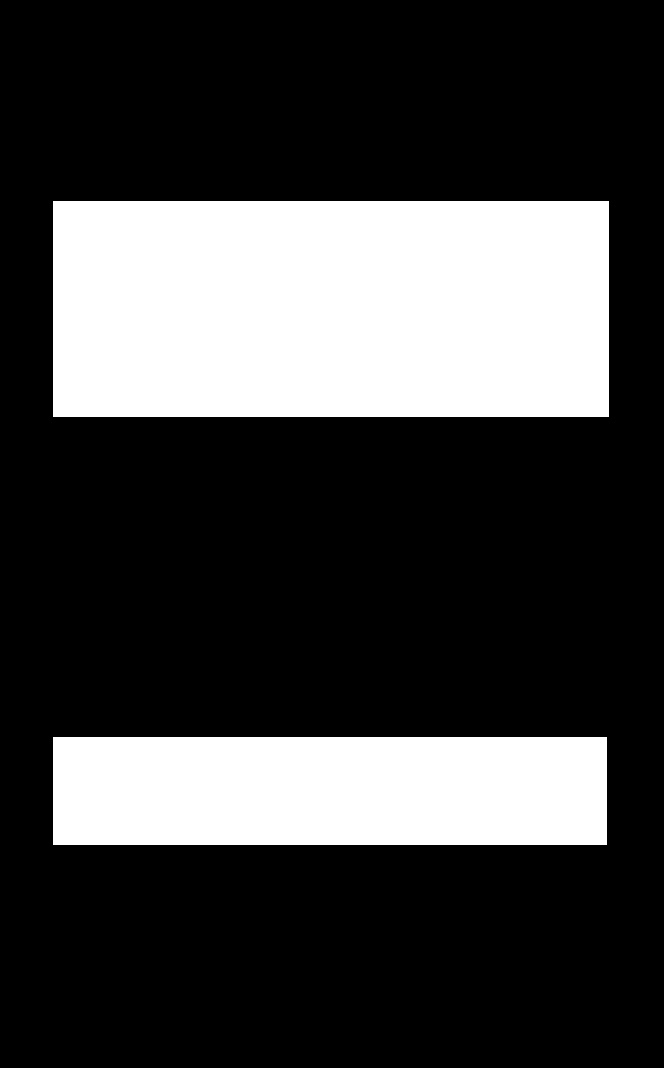table: (53, 201, 608, 416), (53, 737, 606, 844)
